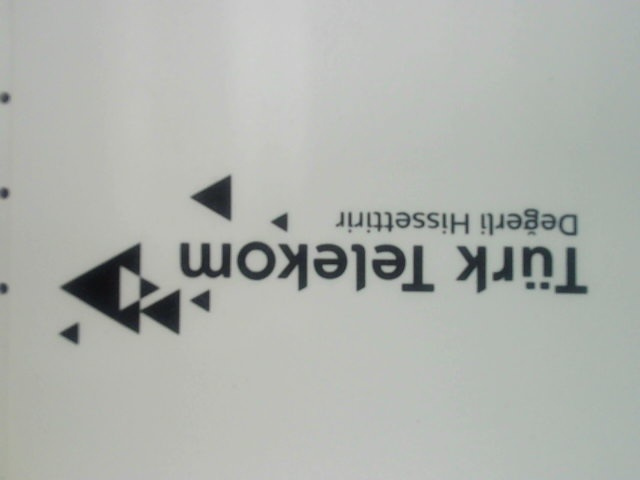AQ_TURKTelekom: (39, 175, 594, 352)
